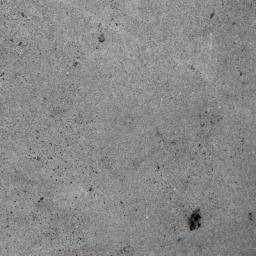FOD: (188, 206, 205, 234)
